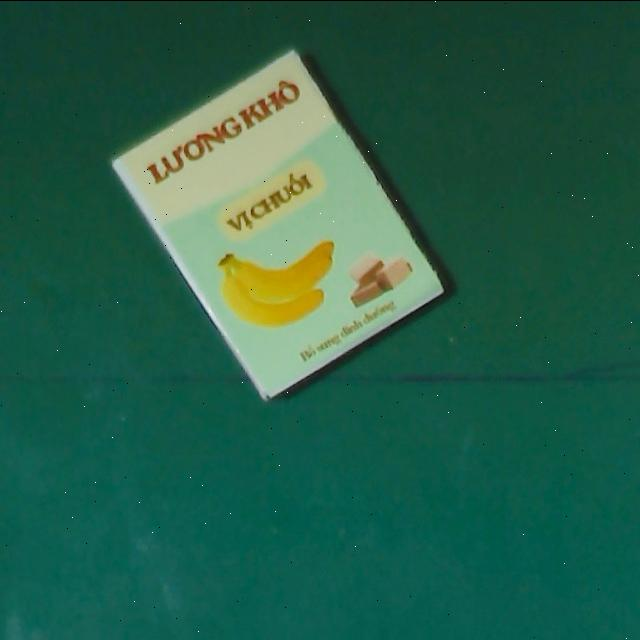chuoi: (110, 46, 448, 405)
